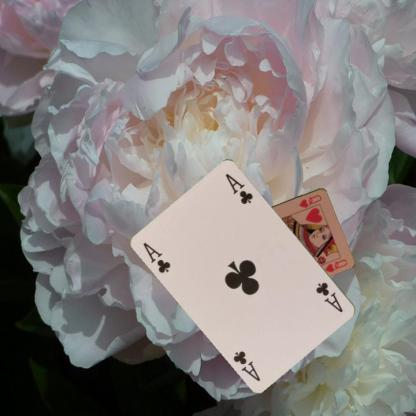Ac: (141, 239, 172, 275), (313, 280, 345, 314)
Qh: (296, 192, 323, 209)
